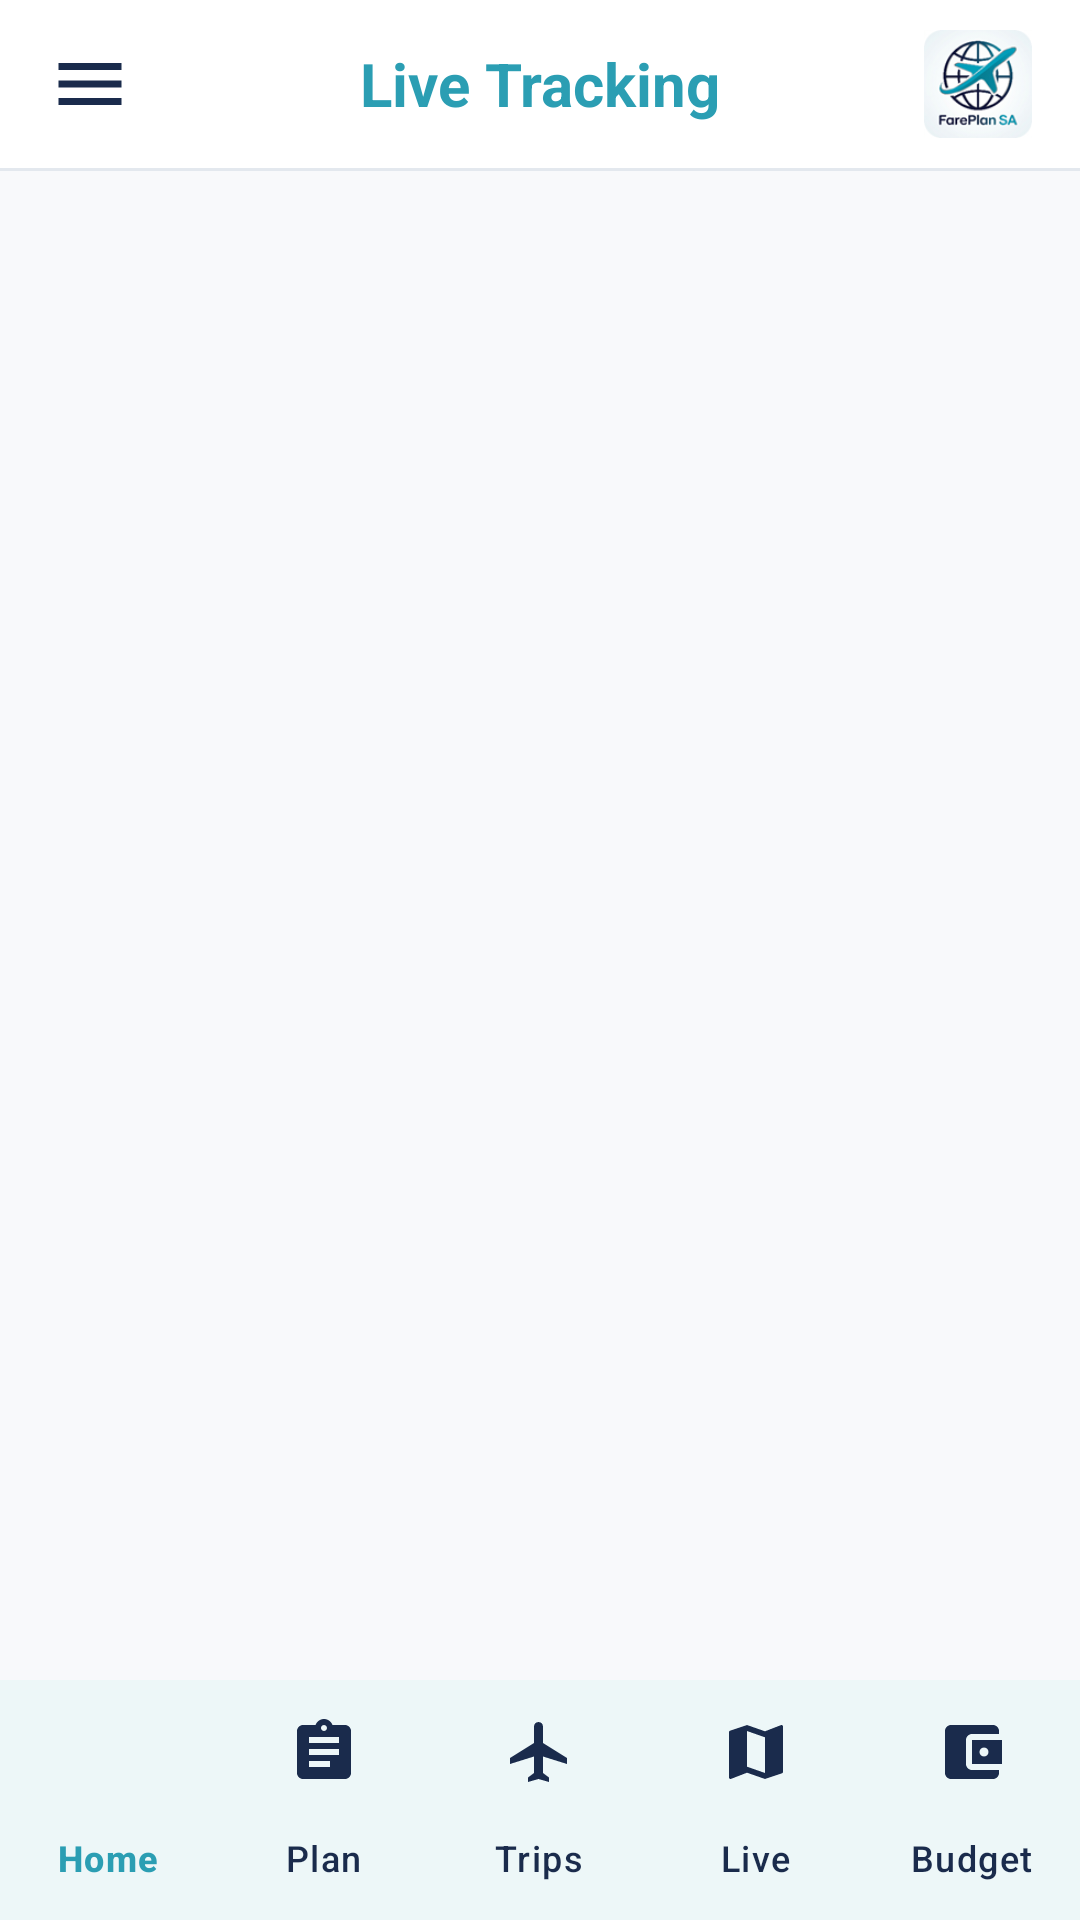

Icon bounding boxes for this 1080 × 1920 phone screenshot, format Rect(x1, y1, x2, y2):
Menu: Rect(58, 63, 122, 105)
